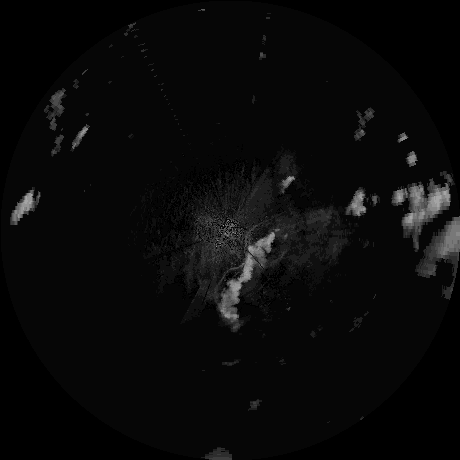frontgust: (215, 264, 242, 305), (244, 222, 266, 255)
